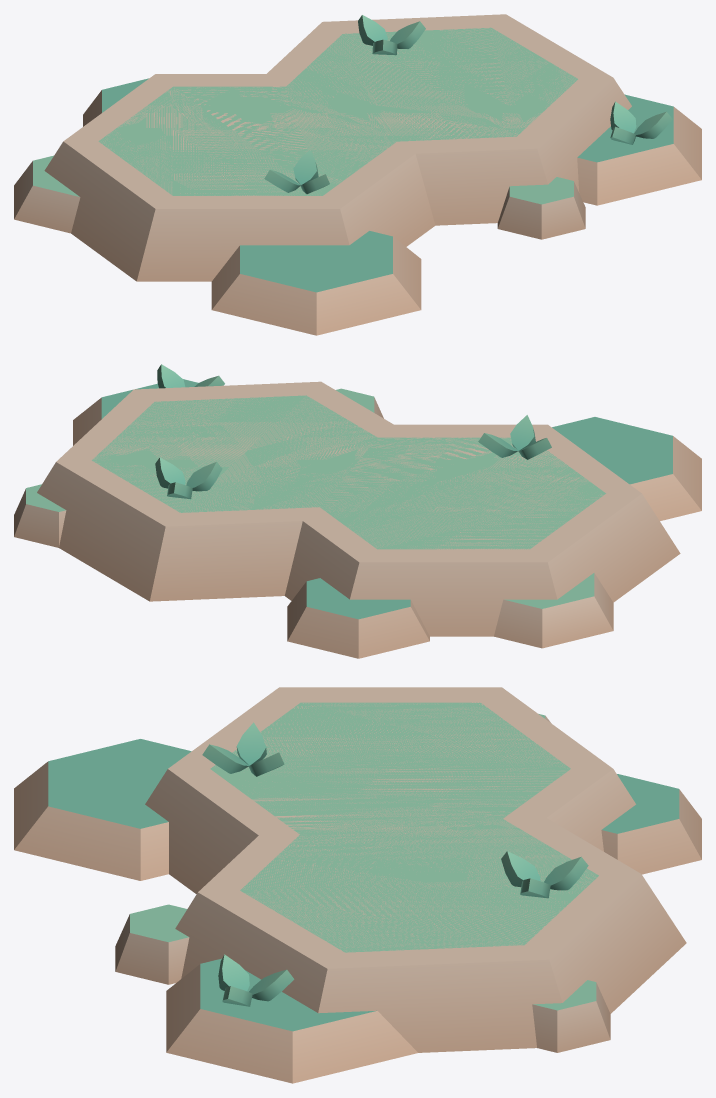
File: rock-flat-grass.glb
3 renders of one model, top to bottom at view 1: azimuth 30°, elevation 25°; view 2: azimuth 150°, elevation 25°; view 3: azimuth 270°, elevation 25°, orthographic. The views are drawn at different scales.
Parts seen in each view (by area): view 1: rock-flat-grass; view 2: rock-flat-grass; view 3: rock-flat-grass.
Part boxes in pixels (x1=…): rock-flat-grass: x1=14, y1=14, x2=701, y2=335; rock-flat-grass: x1=14, y1=364, x2=701, y2=658; rock-flat-grass: x1=14, y1=687, x2=701, y2=1083.
Size of the model in its own units: 1.79 by 0.2258 by 1.45.
